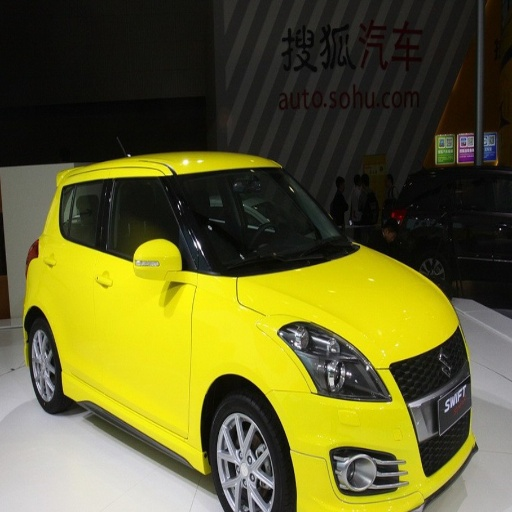front_bumper: (277, 335, 473, 511)
front_right_door: (100, 177, 194, 438)
front_right_light: (278, 322, 390, 401)
